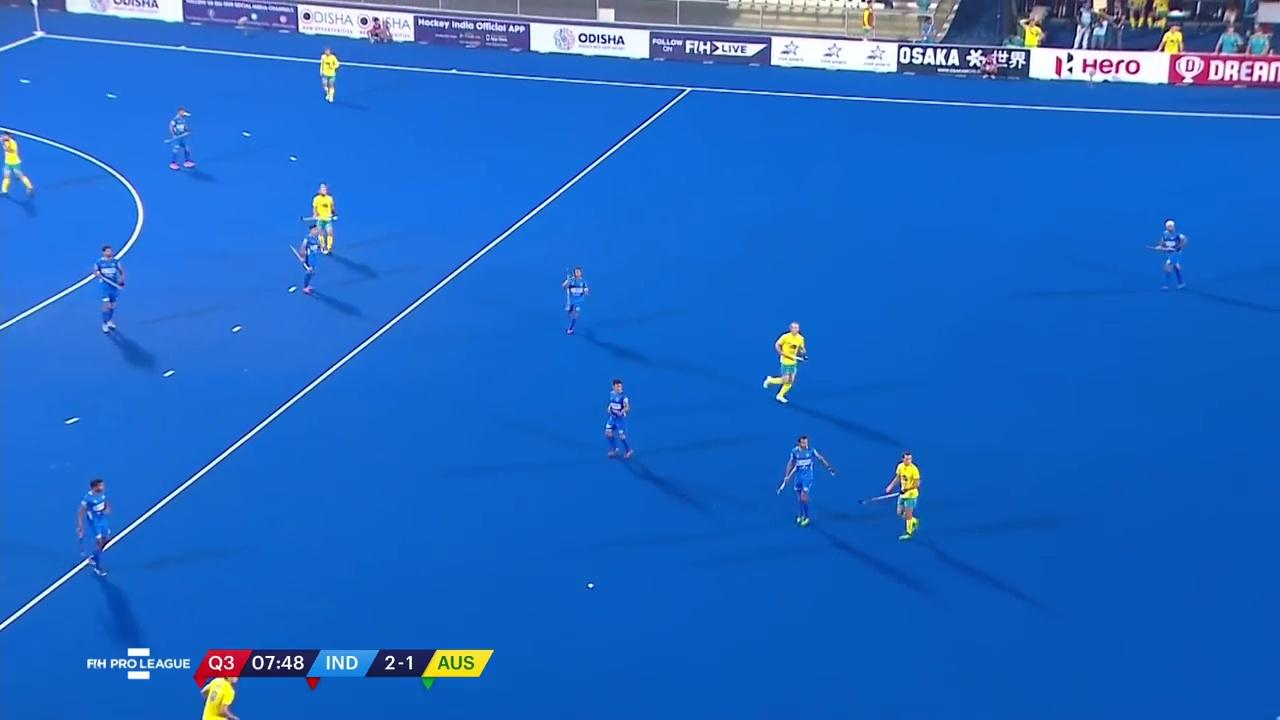ball: (581, 577, 600, 590)
